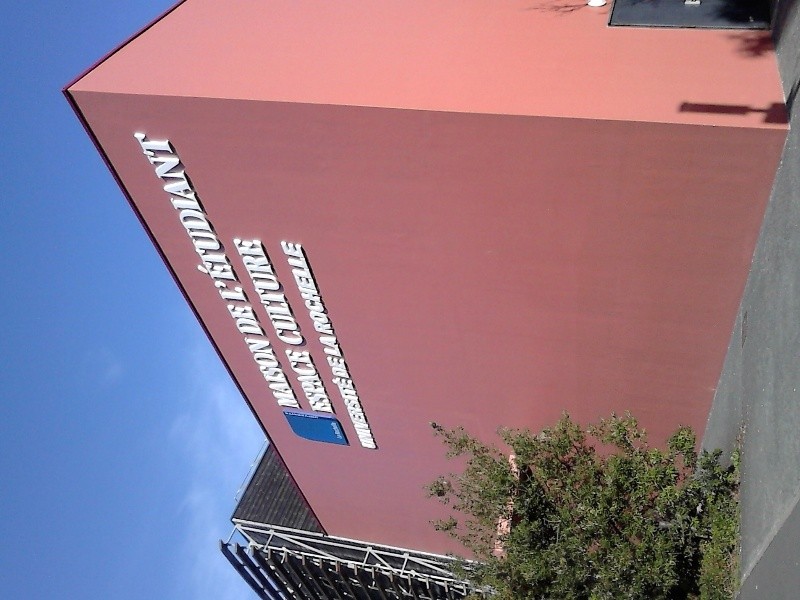text: (177, 130, 192, 303), (193, 130, 208, 303), (209, 130, 224, 303), (225, 130, 240, 303), (273, 236, 288, 347), (289, 236, 304, 347), (167, 130, 176, 303), (241, 130, 250, 303), (321, 240, 337, 337), (289, 240, 304, 337), (305, 240, 320, 337), (259, 236, 272, 347), (337, 374, 352, 453), (353, 374, 368, 453), (257, 337, 272, 411), (273, 337, 288, 411), (289, 337, 304, 411), (277, 240, 288, 337), (321, 349, 336, 419), (243, 337, 256, 411), (307, 349, 320, 419), (369, 374, 380, 453), (329, 374, 336, 453), (225, 304, 240, 337), (241, 304, 256, 337), (257, 304, 272, 337), (321, 335, 336, 359), (305, 236, 308, 347), (337, 356, 351, 379), (326, 356, 336, 379), (337, 349, 340, 419), (337, 335, 344, 359), (289, 412, 304, 420), (305, 412, 320, 420), (337, 423, 343, 440), (317, 335, 320, 359), (285, 412, 288, 420)
